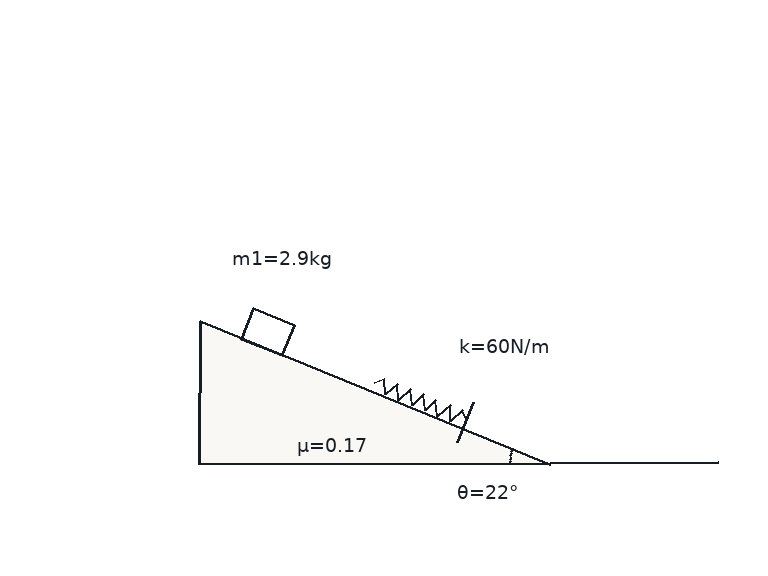block: (239, 306, 296, 357)
ramp: (198, 319, 552, 465)
spring: (373, 377, 468, 422)
